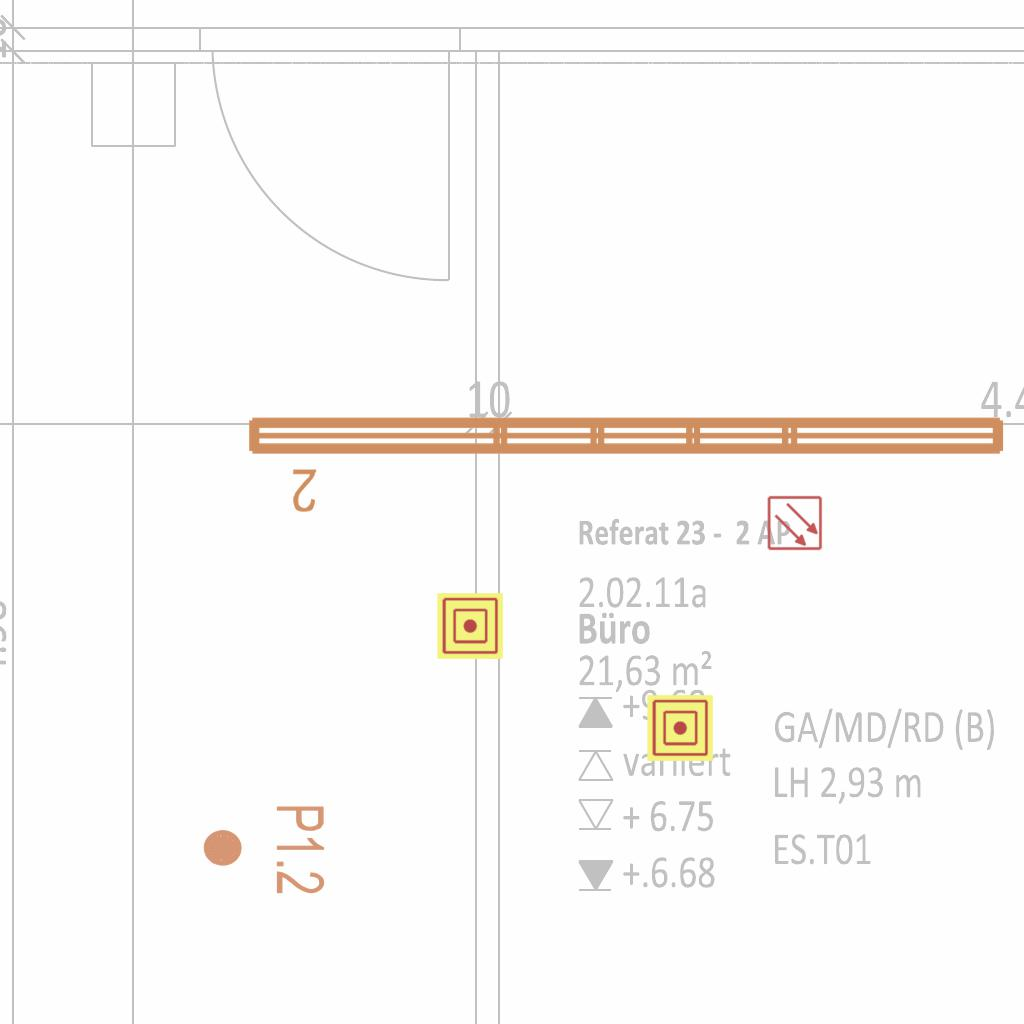Ambulanz_Pendelleuchte_LED: (240, 405, 1014, 517)
Downlight_LED_Einbauleuchten_Flur: (200, 803, 328, 896)
NAM-Nichtautomatischer_Melder: (437, 593, 503, 659), (647, 695, 713, 761)
RMO_Rauchmelder_optischer: (767, 495, 823, 551)
